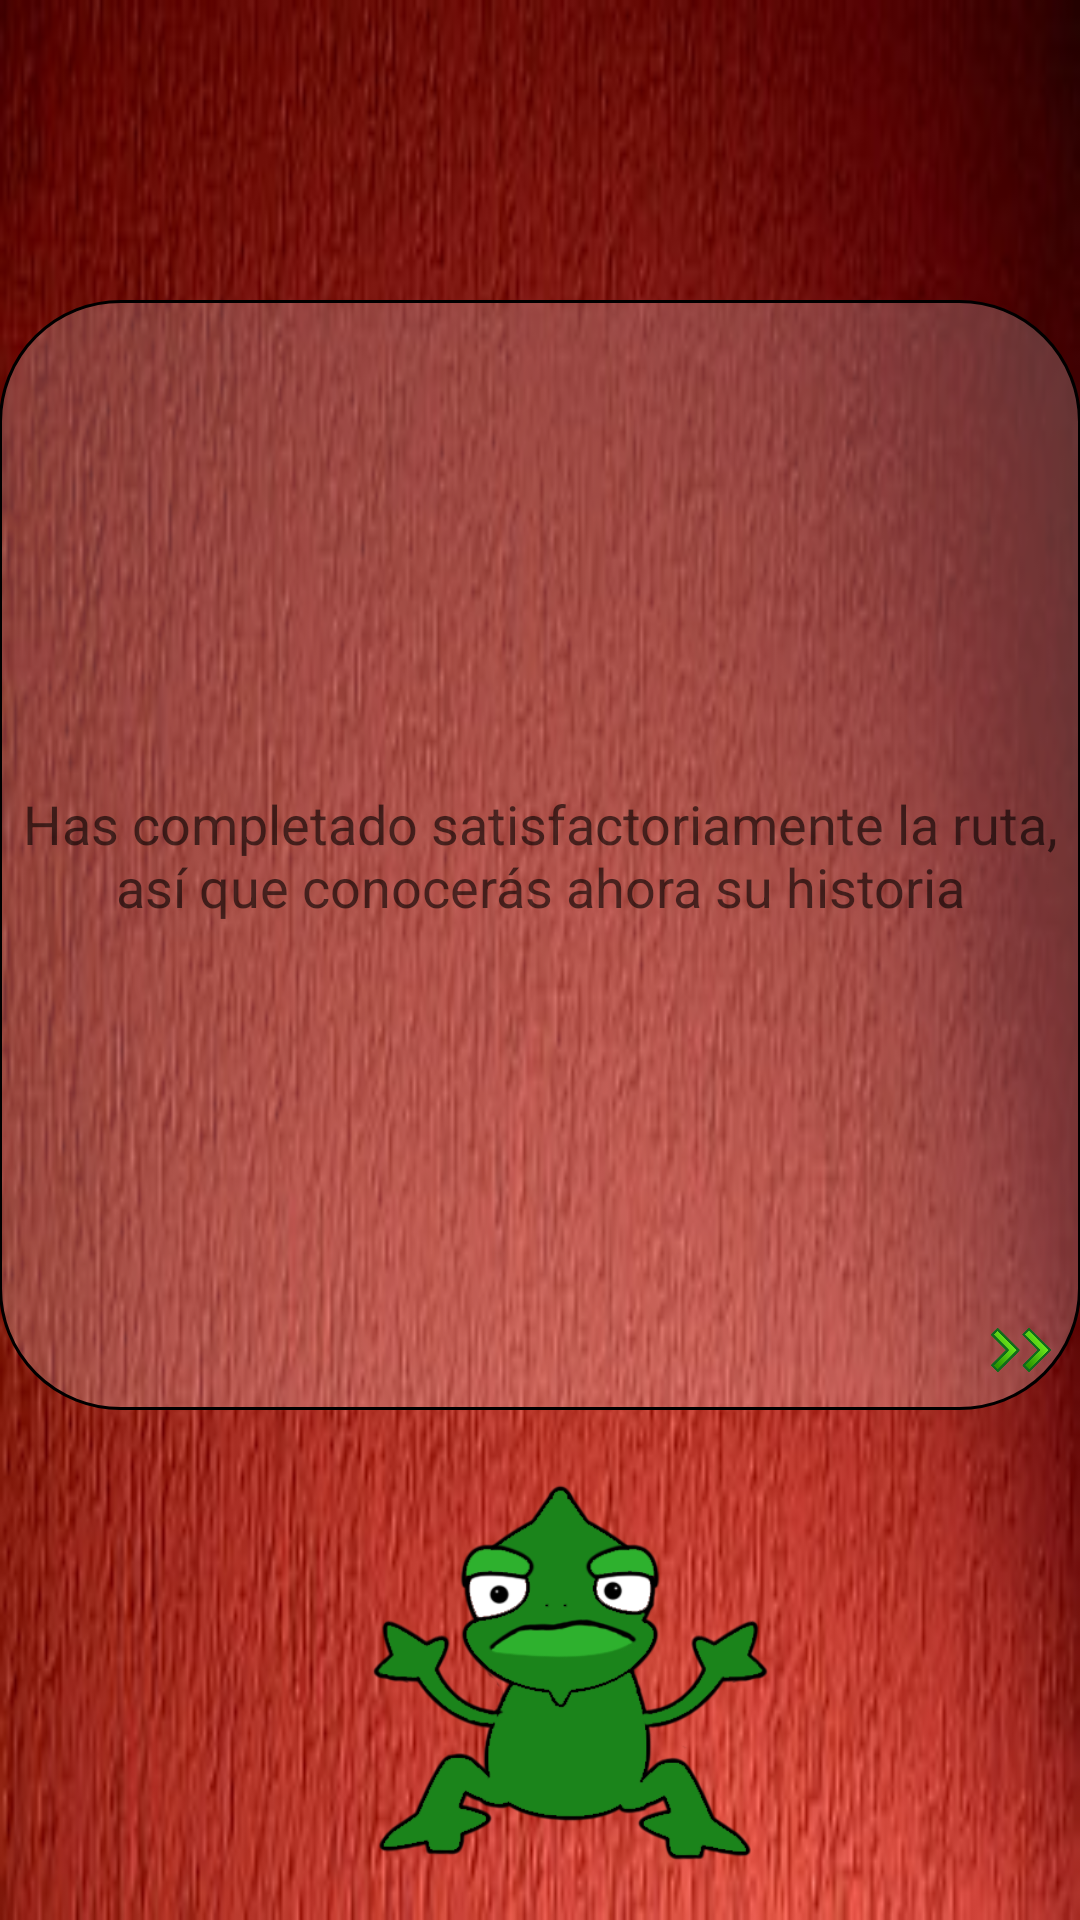

Where to tap for icons on this 1080 x 1920 app screen, as point (x, y):
flecha: point (1021, 1350)
